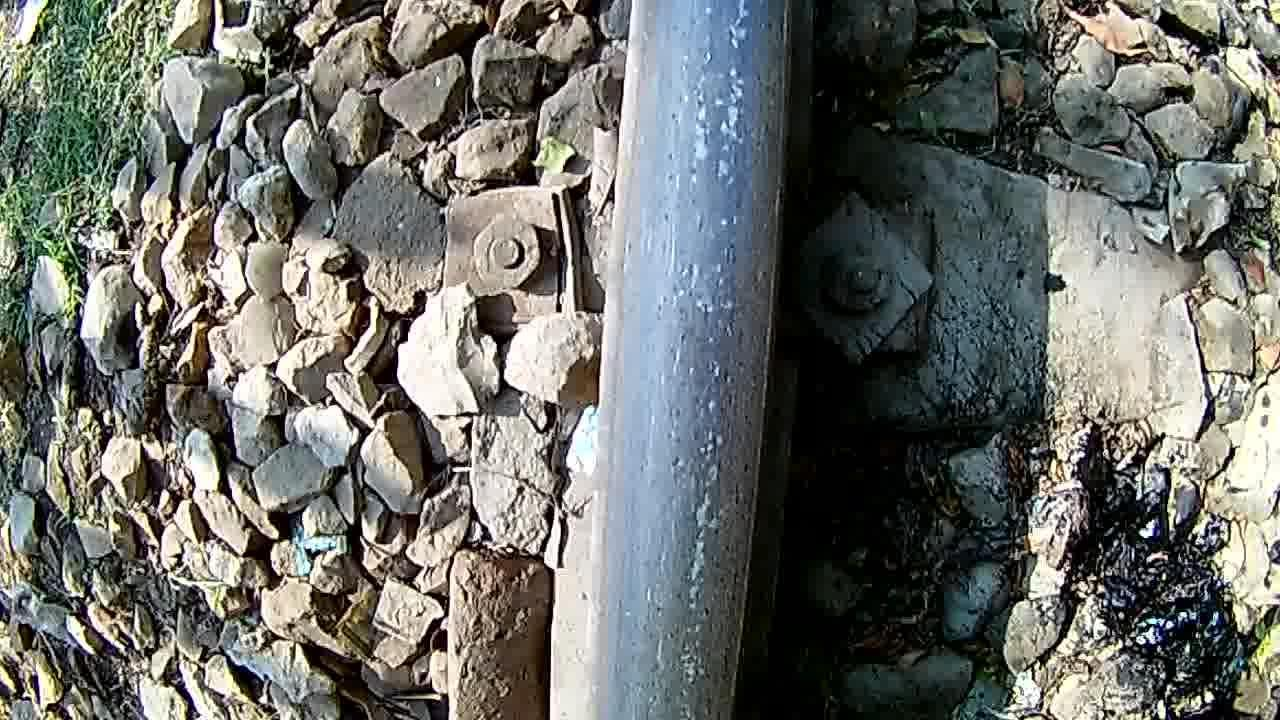crack: (584, 0, 794, 720)
